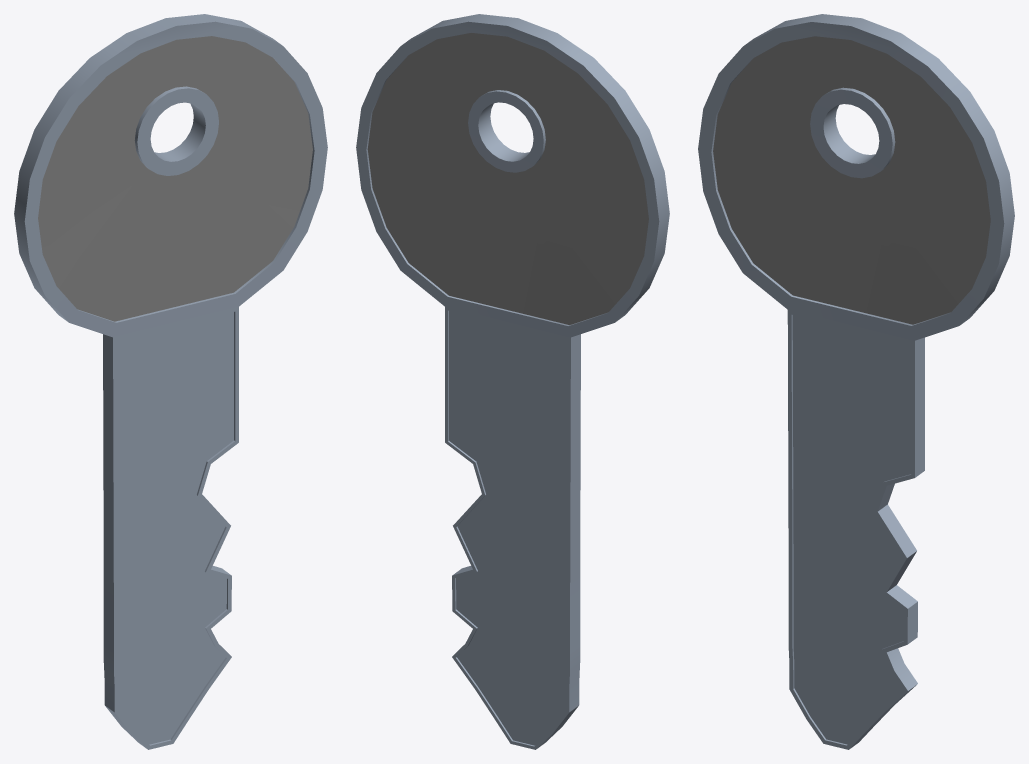
File: Anahtar.fbx
3 views of the same model, side by side, from view 1: azimuth 30°, elevation 25°; view 2: azimuth 150°, elevation 25°; view 3: azimuth 330°, elevation 25° (orthographic).
Visible parts, largest first — view 1: Anahtar; view 2: Anahtar; view 3: Anahtar.
Boxes of the visible parts, x1,y1,x2,y2 form: Anahtar: [14, 14, 327, 749]; Anahtar: [356, 14, 669, 749]; Anahtar: [698, 14, 1014, 749].
Bounding box in the file's own units: 200 × 452 × 13.91.
